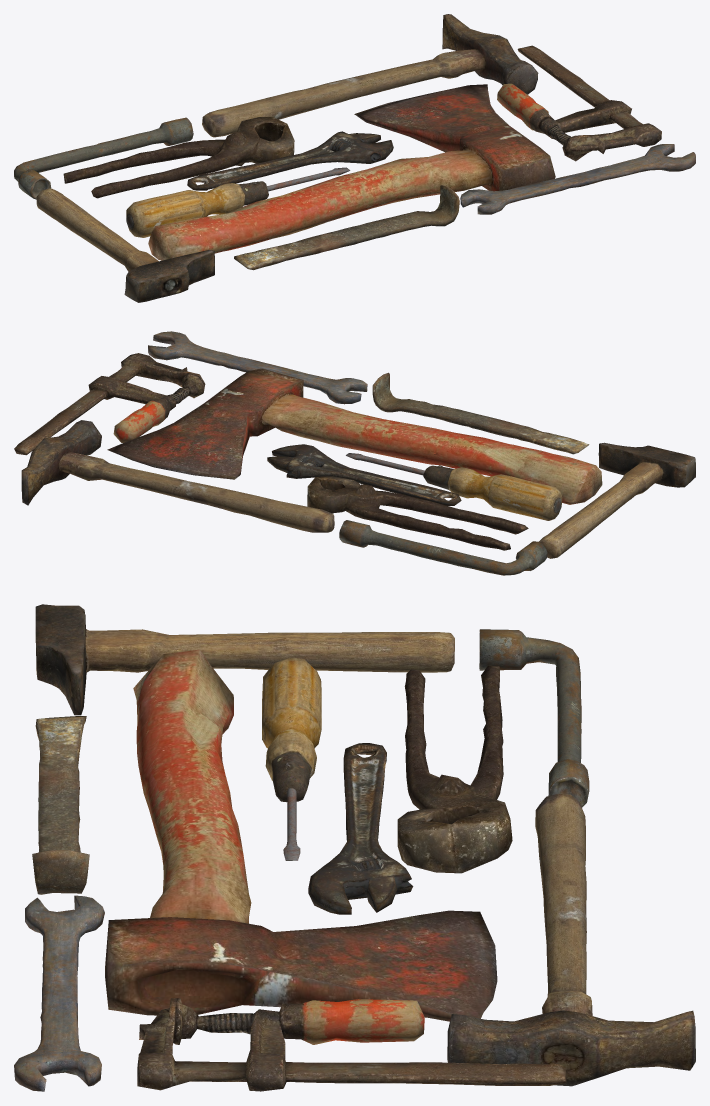
Rendered from lowpoly_tools_-_free_download.glb.
3 views of the same model, one above another, from view 1: azimuth 30°, elevation 25°; view 2: azimuth 150°, elevation 25°; view 3: azimuth 270°, elevation 25° (orthographic). The views are drawn at different scales.
Visible parts, largest first — view 1: hatchet_lod3, hammer2_lod3, clamp_lod3, pliers_lod3, hammer1_lod3, screwdriver_lod3, prybar_lod3, wrench_lod3, adjustable_wrench_lod3, socket_wrench_lod3; view 2: hatchet_lod3, hammer2_lod3, clamp_lod3, pliers_lod3, hammer1_lod3, screwdriver_lod3, prybar_lod3, wrench_lod3, adjustable_wrench_lod3, socket_wrench_lod3; view 3: hatchet_lod3, hammer2_lod3, clamp_lod3, hammer1_lod3, pliers_lod3, wrench_lod3, adjustable_wrench_lod3, prybar_lod3, screwdriver_lod3, socket_wrench_lod3.
Part boxes in pixels (x1,y1,x2,y2): hatchet_lod3: (148,84,555,260); hammer2_lod3: (202,14,538,137); clamp_lod3: (497,45,661,161); pliers_lod3: (63,117,294,198); hammer1_lod3: (36,188,214,302); screwdriver_lod3: (126,167,350,237); prybar_lod3: (234,185,459,270); wrench_lod3: (460,144,695,214); adjustable_wrench_lod3: (187,131,393,190); socket_wrench_lod3: (14,117,193,199); hatchet_lod3: (107,368,602,504); hammer2_lod3: (21,420,334,532); clamp_lod3: (14,353,205,455); pliers_lod3: (307,476,528,550); hammer1_lod3: (539,442,695,558); screwdriver_lod3: (346,453,562,520); prybar_lod3: (372,372,589,454); wrench_lod3: (148,331,367,404); adjustable_wrench_lod3: (267,444,461,505); socket_wrench_lod3: (339,520,547,575); hatchet_lod3: (105,649,497,1021); hammer2_lod3: (447,793,695,1086); clamp_lod3: (137,998,566,1091); hammer1_lod3: (35,604,454,715); pliers_lod3: (397,665,512,873); wrench_lod3: (14,895,104,1091); adjustable_wrench_lod3: (308,743,413,914); prybar_lod3: (32,716,89,894); screwdriver_lod3: (262,657,321,860); socket_wrench_lod3: (479,629,589,807).
Size of the model in its own units: 6.37 by 0.4424 by 3.96.
10 materials, 10 textured.
